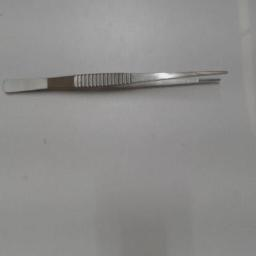DeBakey Dissector: (0, 40, 244, 102)
